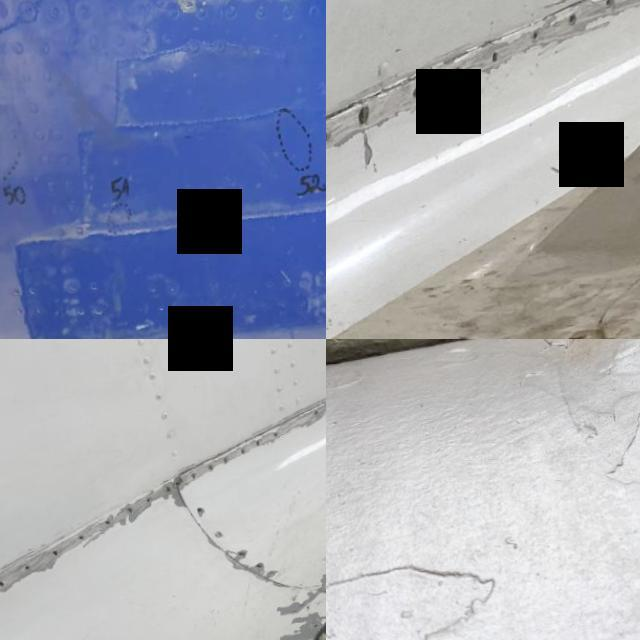Crack: (326, 44, 455, 156), (529, 0, 640, 22), (169, 450, 213, 492)
Missing_Fastener: (23, 566, 34, 572), (146, 499, 154, 507), (164, 489, 173, 496), (272, 435, 281, 442), (52, 552, 61, 558), (105, 522, 114, 528), (239, 452, 248, 457), (314, 414, 321, 420), (198, 510, 205, 516), (255, 444, 264, 448), (223, 461, 230, 466), (80, 537, 86, 542)
